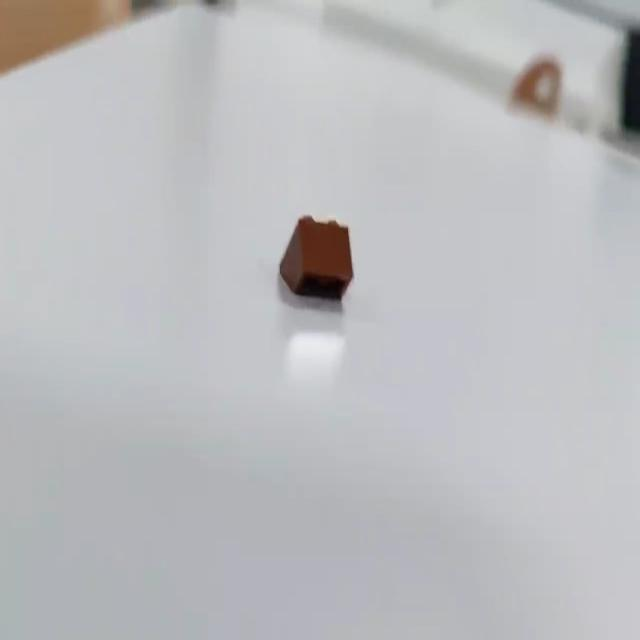X2x2x1: (278, 212, 354, 302)
